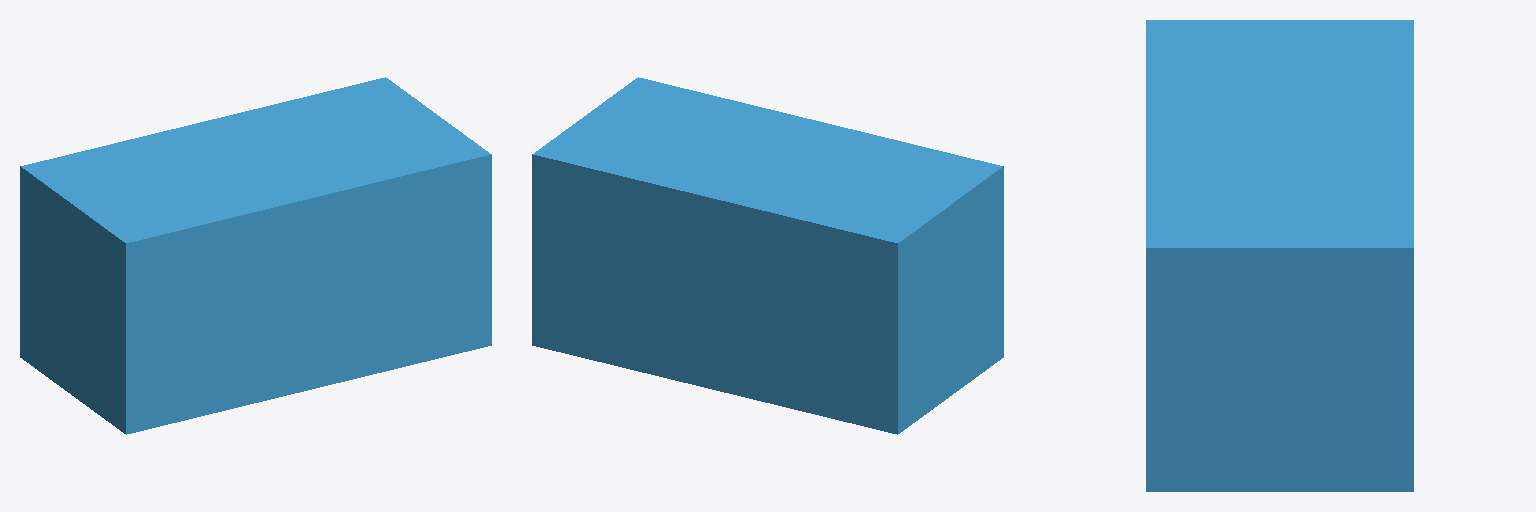
The robot description file, URDF, robot "quadrotor_base":
<robot name="quadrotor_base">

  <!-- Main quadrotor link -->
  <link name="base_link">
    <inertial>
      <mass value="1.477"/>
      <origin xyz="0 0 -0.05"/>
      <inertia ixx="0.01521" ixy="0.0" ixz="0.0" iyy="0.01521" iyz="0.0" izz="0.02549"/>
    </inertial>

    <visual>
      <origin xyz="0 0 0" rpy="0 0 0"/>
      <geometry>
        <mesh filename="package://quadrotor_description/quadrotor_base.dae"/>
      </geometry>
    </visual>

    <collision>
      <origin xyz="0 0 0" rpy="0 0 0"/>
      <geometry>
        <mesh filename="package://quadrotor_description/quadrotor_base.stl"/>
      </geometry>
    </collision>
  </link>

  <!-- Sonar height sensor -->
  <link name="sonar">
    <inertial>
      <mass value="0.01"/>
      <origin xyz="0 0 0"/>
      <inertia ixx="0.00001" ixy="0.0" ixz="0.0" iyy="0.00001" iyz="0.0" izz="0.00001"/>
    </inertial>
    <visual>
      <origin xyz="0 0 0" rpy="0 0 0"/>
      <geometry>
        <box size="0.05 0.05 0.1"/>
      </geometry>
    </visual>
    <collision>
      <origin xyz="0 0 0" rpy="0 0 0"/>
      <geometry>
        <box size="0.05 0.05 0.1"/>
      </geometry>
    </collision>
  </link>

  <joint name="sonar_joint" type="fixed">
    <parent link="base_link"/>
    <child link="sonar"/>
    <origin xyz="-0.16 0.0 -0.012" rpy="0 1.5708 0"/>
  </joint>
</robot>

--- What the picture shows (computed from the rendered views, not written in the file) ---
3 views of the same robot in one strip: view 1: azimuth 30°, elevation 25°; view 2: azimuth 150°, elevation 25°; view 3: azimuth 270°, elevation 25° (orthographic).
Model quadrotor_base with 2 links and 1 joints (1 fixed), rooted at base_link, posed every joint at zero.
Links seen in each view (by area): view 1: sonar; view 2: sonar; view 3: sonar.
Link boxes in pixels (x1,y1,x2,y2): sonar: (20, 77, 491, 434); sonar: (532, 77, 1003, 434); sonar: (1146, 20, 1413, 491).
Bounding box of the posed robot: 0.1 × 0.05 × 0.05 m (x, y, z).
Meshes: 1 distinct files referenced, 0 mesh visuals loaded (none loaded); not drawn: 1 (reference not matched to a file when rendering).